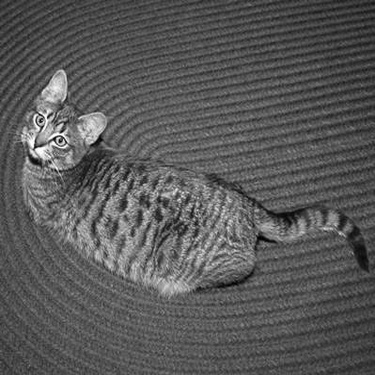cat: (18, 67, 370, 297)
